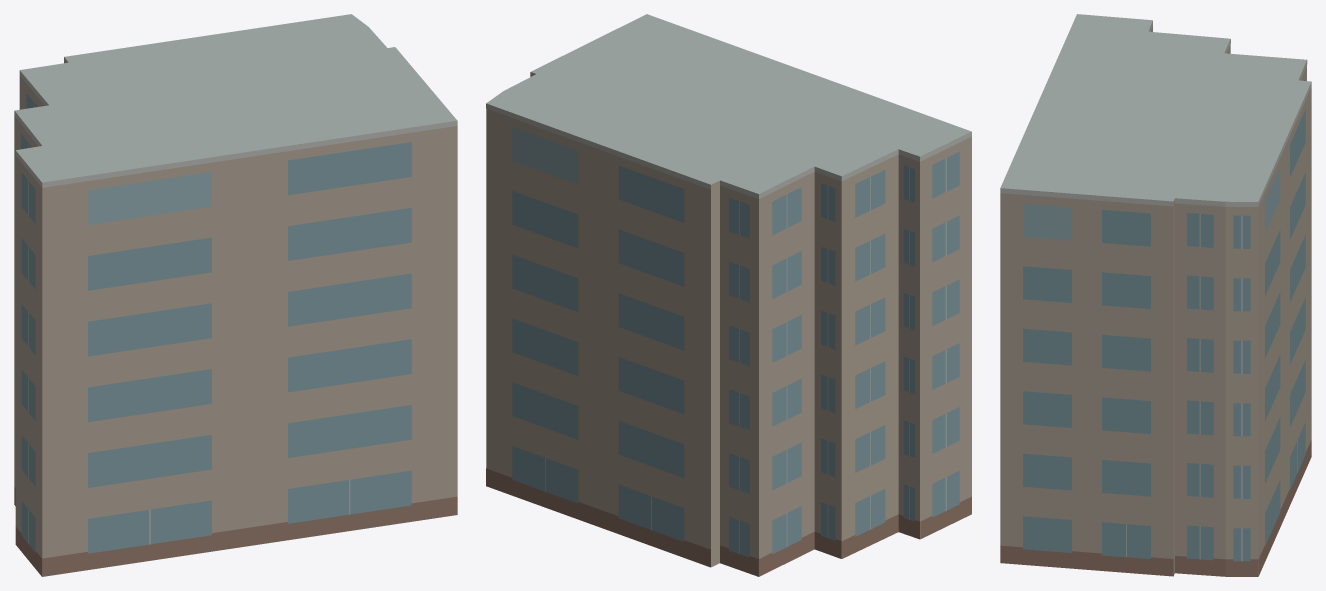
The model's file is survey-upis-32554537.glb.
The picture shows the model from 3 angles, left to right: view 1: azimuth 30°, elevation 25°; view 2: azimuth 150°, elevation 25°; view 3: azimuth 270°, elevation 25°; orthographic projection. The views are drawn at different scales.
Parts seen in each view (by area): view 1: survey-upis-32554537.tmp; view 2: survey-upis-32554537.tmp; view 3: survey-upis-32554537.tmp.
Boxes of the visible parts, box(x1,y1,x2,y2) form: survey-upis-32554537.tmp: box(14, 14, 457, 576); survey-upis-32554537.tmp: box(486, 14, 971, 576); survey-upis-32554537.tmp: box(1000, 14, 1311, 576).
Bounding box in the file's own units: 19.68 × 18.3 × 13.78.
